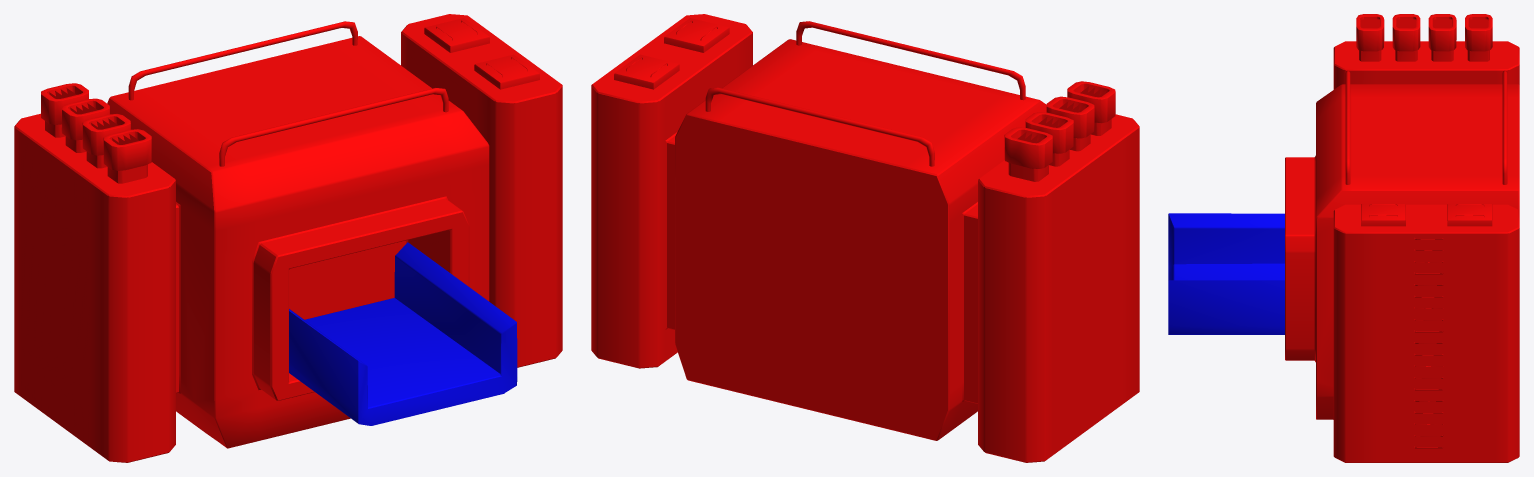
The model's file is main_LavaGenerator001_LOD1.fbx.
The picture shows the model from 3 angles, left to right: view 1: azimuth 30°, elevation 25°; view 2: azimuth 150°, elevation 25°; view 3: azimuth 270°, elevation 25°; orthographic projection. The views are drawn at different scales.
Visible parts, largest first — view 1: main_LavaGenerator001_main001, main_LavaGenerator001_export001; view 2: main_LavaGenerator001_main001; view 3: main_LavaGenerator001_main001, main_LavaGenerator001_export001.
Boxes of the visible parts, box(x1,y1,x2,y2) form: main_LavaGenerator001_main001: box(14, 14, 562, 462); main_LavaGenerator001_export001: box(289, 242, 517, 425); main_LavaGenerator001_main001: box(591, 14, 1139, 462); main_LavaGenerator001_main001: box(1285, 14, 1519, 462); main_LavaGenerator001_export001: box(1168, 213, 1284, 334).
Bounding box in the file's own units: 19.51 × 12.4 × 14.97.
